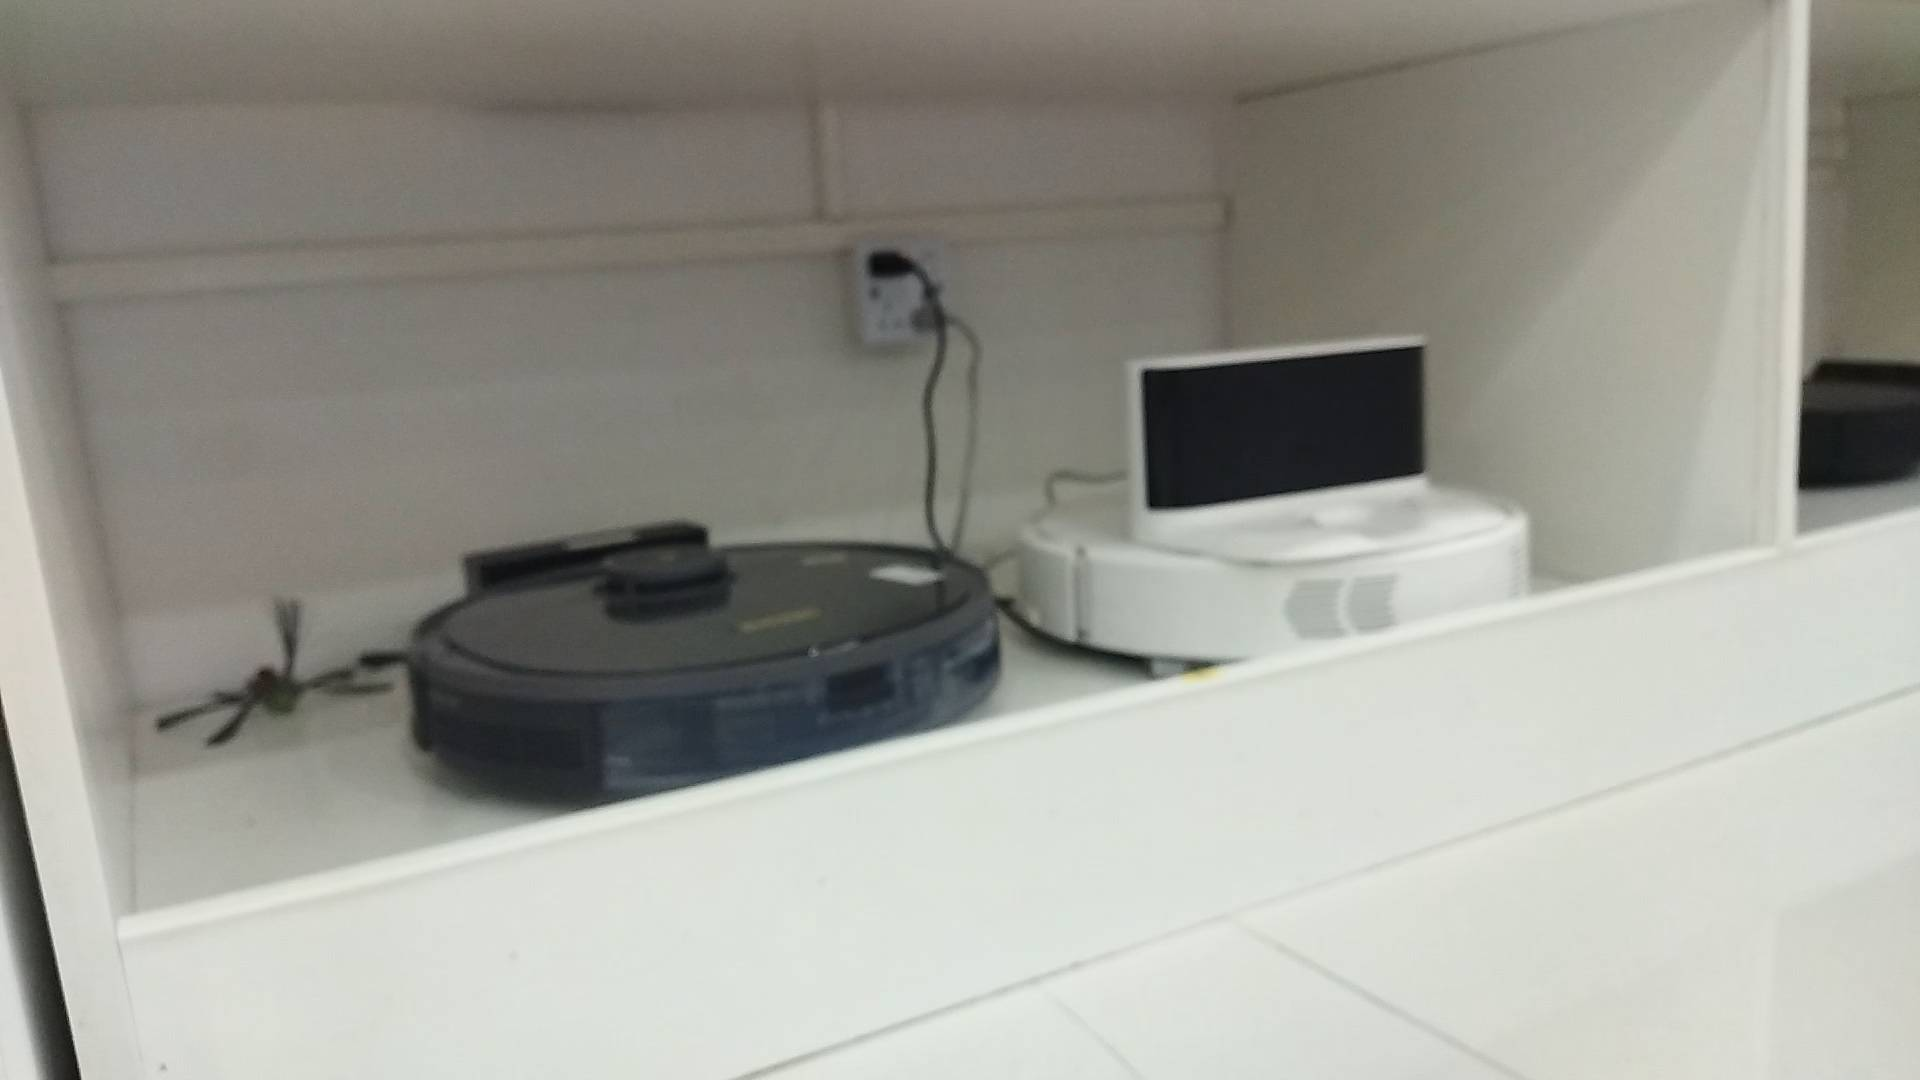recharge seat: (1125, 331, 1509, 566)
